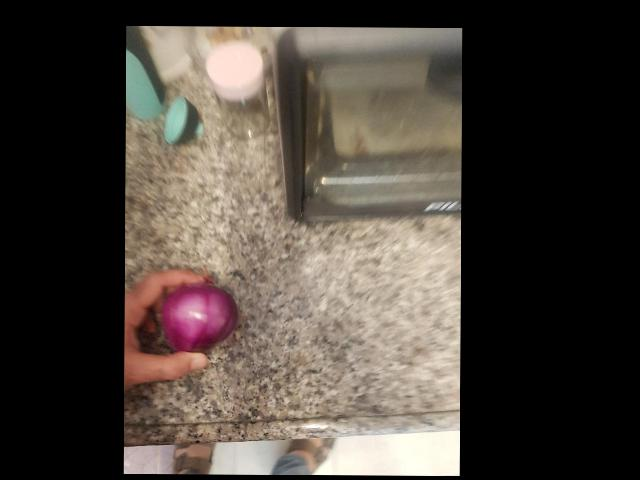onion: (377, 250, 456, 334)
